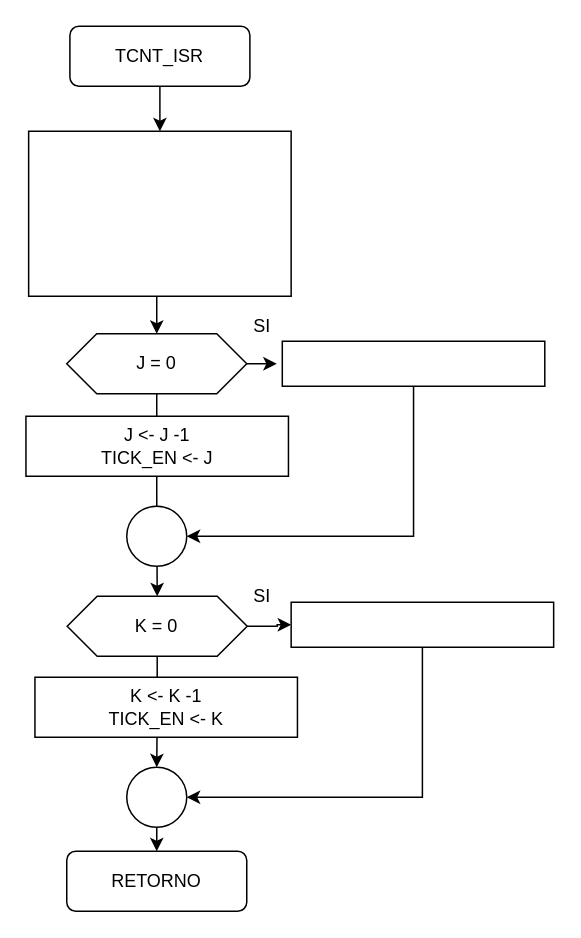
Some shapes in this 581 by 938 pixel diagram are drawn without their labels. Each missing label, with the centre of its shape:
"Banderas.3 <- 0" belongs at point (422, 624).
"Banderas.3 <- 1" belongs at point (413, 363).
"TFLG2.7 <-1 J <- TICK_MED J <- J +1 TICK_MED <- J J <- TICK_EN K <- TICK_DIS" belongs at point (159, 213).
